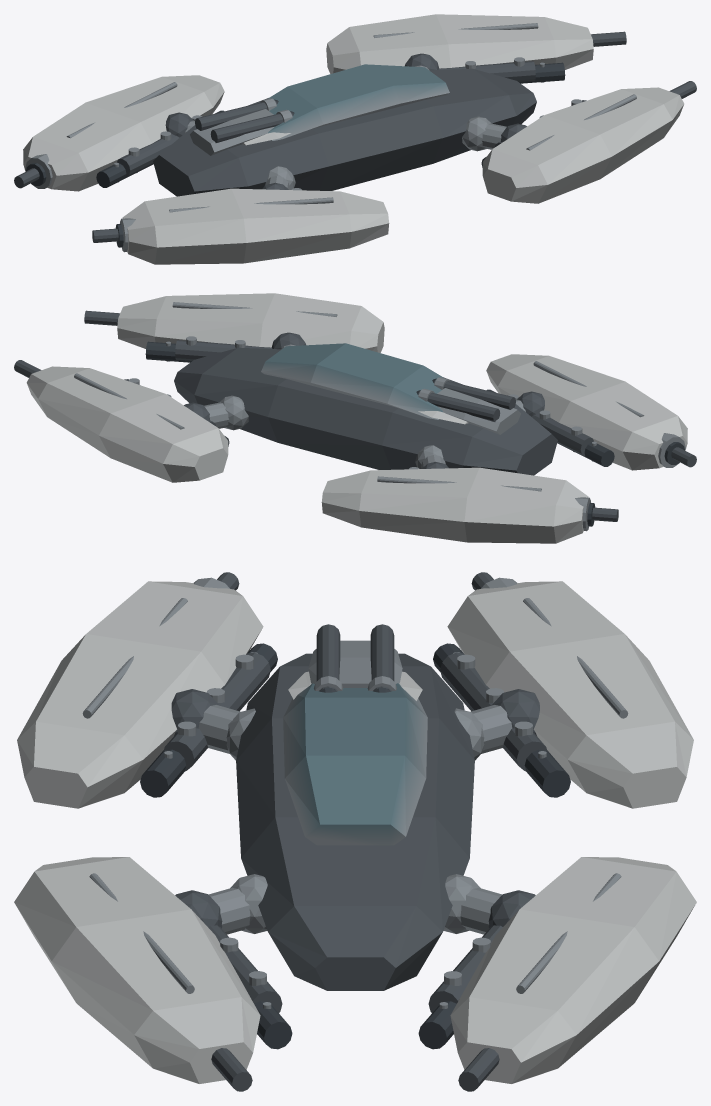
Rendered from x5_white_compact_off.glb.
The picture shows the model from 3 angles, top to bottom: view 1: azimuth 30°, elevation 25°; view 2: azimuth 150°, elevation 25°; view 3: azimuth 270°, elevation 25°; orthographic projection. The views are drawn at different scales.
Parts seen in each view (by area): view 1: pod_armor_10, center_hull_0, cabin_base_1, pod_mechanics_15, missile_body_3, pod_rail_11, forward_gun_12, launcher_saddle_2, outer_joint_9, inner_drive_rail_17, inner_joint_7, mechanical_arms_8 (+2 smaller); view 2: pod_armor_10, center_hull_0, cabin_base_1, pod_mechanics_15, missile_body_3, pod_rail_11, forward_gun_12, launcher_saddle_2, outer_joint_9, inner_drive_rail_17, inner_joint_7, mechanical_arms_8 (+2 smaller); view 3: pod_armor_10, center_hull_0, cabin_base_1, pod_mechanics_15, inner_drive_rail_17, mechanical_arms_8, outer_joint_9, inner_joint_7, pod_rail_11, missile_body_3, forward_gun_12, mechanical_crossbeam_16 (+1 smaller).
Boxes of the visible parts, x1=… form: pod_armor_10: x1=23, y1=14, x2=684, y2=264; center_hull_0: x1=153, y1=68, x2=536, y2=196; cabin_base_1: x1=268, y1=64, x2=449, y2=140; pod_mechanics_15: x1=117, y1=61, x2=586, y2=177; missile_body_3: x1=195, y1=100, x2=292, y2=142; pod_rail_11: x1=66, y1=23, x2=636, y2=212; forward_gun_12: x1=14, y1=31, x2=696, y2=242; launcher_saddle_2: x1=190, y1=109, x2=273, y2=155; outer_joint_9: x1=165, y1=53, x2=526, y2=189; inner_drive_rail_17: x1=96, y1=62, x2=565, y2=187; inner_joint_7: x1=267, y1=116, x2=491, y2=189; mechanical_arms_8: x1=185, y1=65, x2=506, y2=189; pod_armor_10: x1=26, y1=293, x2=687, y2=543; center_hull_0: x1=174, y1=347, x2=557, y2=475; cabin_base_1: x1=261, y1=343, x2=443, y2=419; pod_mechanics_15: x1=124, y1=340, x2=593, y2=456; missile_body_3: x1=418, y1=379, x2=515, y2=421; pod_rail_11: x1=74, y1=302, x2=644, y2=491; forward_gun_12: x1=14, y1=310, x2=696, y2=521; launcher_saddle_2: x1=437, y1=388, x2=520, y2=434; outer_joint_9: x1=184, y1=332, x2=544, y2=468; inner_drive_rail_17: x1=145, y1=341, x2=614, y2=466; inner_joint_7: x1=219, y1=395, x2=443, y2=468; mechanical_arms_8: x1=204, y1=344, x2=525, y2=468; pod_armor_10: x1=14, y1=581, x2=696, y2=1083; center_hull_0: x1=236, y1=653, x2=474, y2=990; cabin_base_1: x1=283, y1=683, x2=427, y2=845; pod_mechanics_15: x1=163, y1=652, x2=547, y2=1012; inner_drive_rail_17: x1=140, y1=643, x2=570, y2=1049; mechanical_arms_8: x1=198, y1=705, x2=512, y2=934; outer_joint_9: x1=171, y1=689, x2=539, y2=928; inner_joint_7: x1=226, y1=708, x2=484, y2=933; pod_rail_11: x1=82, y1=598, x2=628, y2=993; missile_body_3: x1=316, y1=624, x2=394, y2=691; forward_gun_12: x1=211, y1=572, x2=499, y2=1091; mechanical_crossbeam_16: x1=178, y1=654, x2=532, y2=985.
Size of the model in its own units: 7.07 by 0.9 by 4.06.
